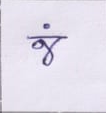anusvara: (43, 24, 49, 29)
